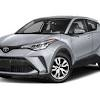Toyota: (1, 17, 99, 75)
